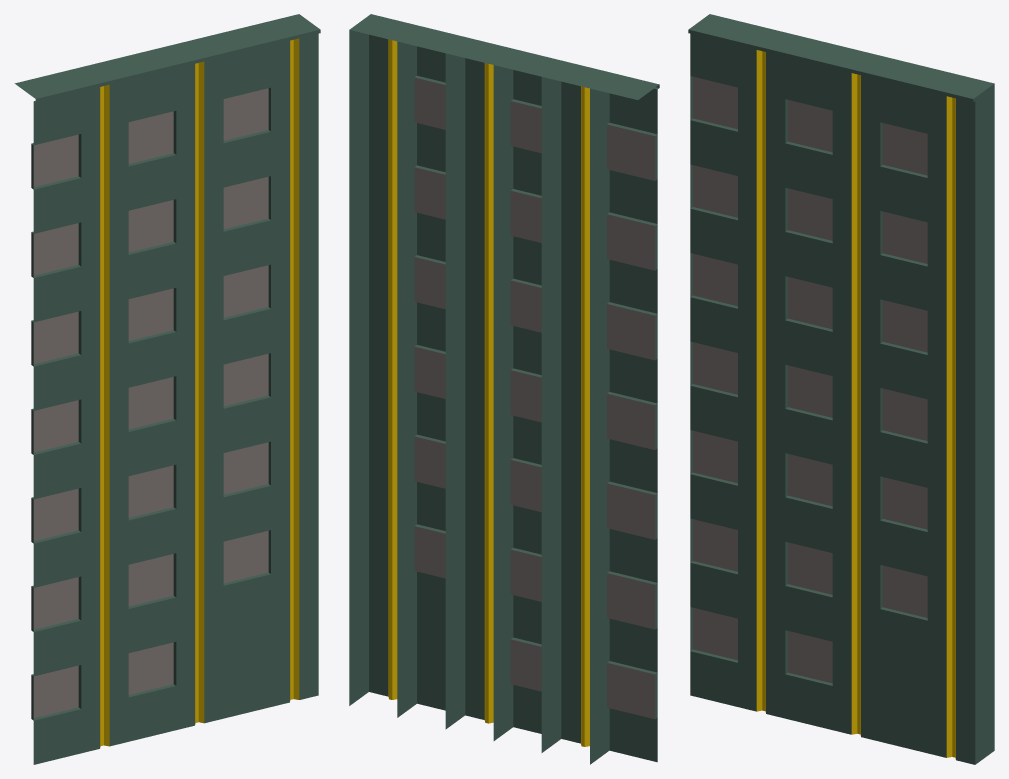
The picture shows the model from 3 angles, left to right: view 1: azimuth 30°, elevation 25°; view 2: azimuth 150°, elevation 25°; view 3: azimuth 330°, elevation 25°; orthographic projection.
Parts seen in each view (by area): view 1: Column.040; view 2: Column.040; view 3: Column.040.
Part boxes in pixels (left/top/right/bottom): Column.040: left=14, top=14, right=320, bottom=764; Column.040: left=349, top=14, right=659, bottom=764; Column.040: left=688, top=14, right=994, bottom=764.
Bounding box in the file's own units: 1671 × 3742 × 217.
